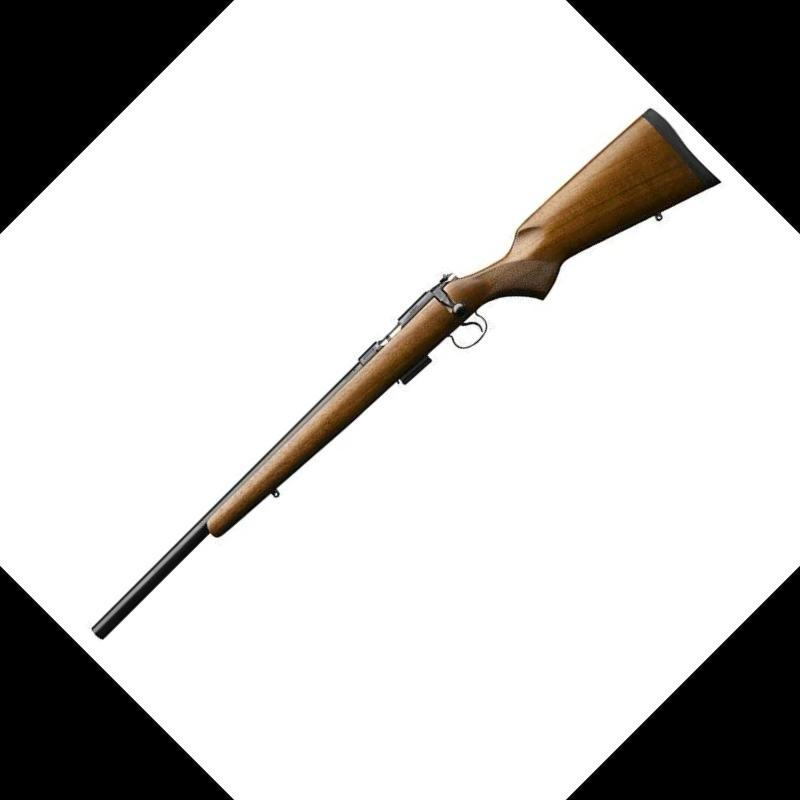larga: (92, 104, 722, 642)
